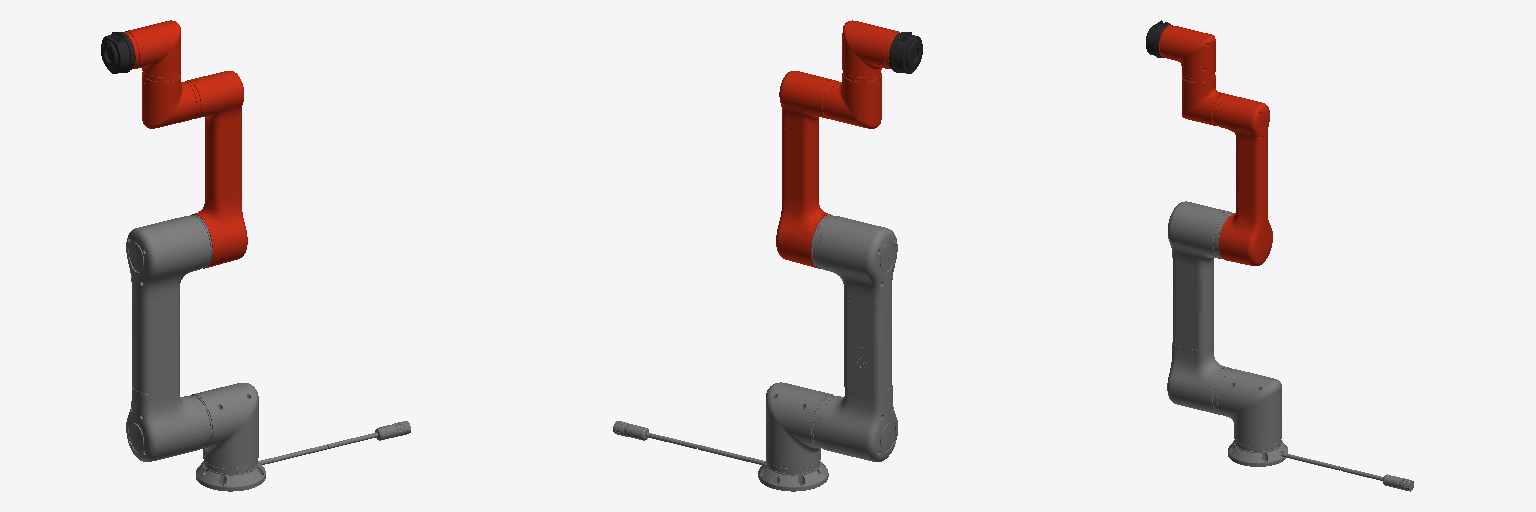
The robot description file, URDF, robot "hcr_robot":
<?xml version="1.0" ?>
<!-- =================================================================================== -->
<!-- |    This document was autogenerated by xacro from hcr_robot.xacro                | -->
<!-- |    EDITING THIS FILE BY HAND IS NOT RECOMMENDED                                 | -->
<!-- =================================================================================== -->
<robot name="hcr_robot">
  <material name="silver">
    <color rgba="0.700 0.700 0.700 1.000"/>
  </material>
  <material name="orange">
    <color rgba="0.8 0.2 0.1 1.0"/>
  </material>
  <material name="black">
    <color rgba="0.5 0.5 0.5 1.0"/>
  </material>
  <material name="grey">
    <color rgba="0.2 0.2 0.2 1.0"/>
  </material>
  <!--gazebo>
    <plugin filename="libgazebo_ros_control.so" name="control"/>
  </gazebo-->
  <link name="world" />
    <!-- BASE LINK -->
    <!--link name="base_link">
        <visual>
            <origin rpy="0 0 0" xyz="0 0 0.01" />
            <material name="black">
                   <color rgba="0.0 0.0 0.0 1.0"/>
            </material>
             
        </visual>
        <collision>
            <origin rpy="0 0 0" xyz="0 0 0.01" />
            <geometry>
                <cylinder length="0.02" radius="0.5" />
            </geometry>
        </collision>
        
        <inertial>

            <mass value="0.1" />
            <inertia ixx="0.03" iyy="0.03" izz="0.03" ixy="0.0" ixz="0.0" iyz="0.0" />
        </inertial>

    </link-->
  <gazebo reference="base_link">
    <material>Gazebo/Black</material>
    <mu1>0.2</mu1>
    <mu2>0.2</mu2>
    <selfCollide>true</selfCollide>
    <gravity>true</gravity>
  </gazebo>
  <gazebo reference="link1_1">
    <material>Gazebo/Black</material>
    <mu1>0.2</mu1>
    <mu2>0.2</mu2>
    <selfCollide>true</selfCollide>
  </gazebo>
  <gazebo reference="link2_1">
    <material>Gazebo/Black</material>
    <mu1>0.2</mu1>
    <mu2>0.2</mu2>
    <selfCollide>true</selfCollide>
  </gazebo>
  <gazebo reference="link3_1">
    <material>Gazebo/Orange</material>
    <mu1>0.2</mu1>
    <mu2>0.2</mu2>
    <selfCollide>true</selfCollide>
  </gazebo>
  <gazebo reference="link4_1">
    <material>Gazebo/Orange</material>
    <mu1>0.2</mu1>
    <mu2>0.2</mu2>
    <selfCollide>true</selfCollide>
  </gazebo>
  <gazebo reference="link5_1">
    <material>Gazebo/Orange</material>
    <mu1>0.2</mu1>
    <mu2>0.2</mu2>
    <selfCollide>true</selfCollide>
  </gazebo>
  <gazebo reference="link6_1">
    <material>Gazebo/Grey</material>
    <mu1>0.2</mu1>
    <mu2>0.2</mu2>
    <selfCollide>true</selfCollide>
  </gazebo>
  <!-- LINK 1 -->
  <link name="base_link">
    <inertial>
      <origin rpy="0 0 0" xyz="0.044693591972953806 -9.689819846991377e-05 0.013982771179495564"/>
      <mass value="4.071462983655495"/>
      <inertia ixx="0.004614" ixy="-2e-05" ixz="-0.000189" iyy="0.063084" iyz="0.0" izz="0.067151"/>
    </inertial>
    <visual>
      <origin rpy="0 0 0" xyz="0 0 0"/>
      <geometry>
        <mesh filename="package://hcr_robot_description/meshes/base_link.stl" scale="0.001 0.001 0.001"/>
      </geometry>
      <material name="black"/>
    </visual>
    <collision>
      <origin rpy="0 0 0" xyz="0 0 0"/>
      <geometry>
        <mesh filename="package://hcr_robot_description/meshes/base_link.stl" scale="0.001 0.001 0.001"/>
      </geometry>
    </collision>
  </link>
  <!-- joint -->
  <joint name="fixed" type="fixed">
        <parent link="world" />
        <child link="base_link" />
  </joint>
  <link name="link1_1">
    <inertial>
      <origin rpy="0 0 0" xyz="-0.009232924655966162 5.611908895686318e-08 0.08981078121700108"/>
      <mass value="17.125748524580114"/>
      <inertia ixx="0.054601" ixy="0.0" ixz="0.004569" iyy="0.061186" iyz="-0.0" izz="0.036738"/>
    </inertial>
    <visual>
      <origin rpy="0 0 0" xyz="-0.0 0.0 -0.03"/>
      <geometry>
        <mesh filename="package://hcr_robot_description/meshes/link1_1.stl" scale="0.001 0.001 0.001"/>
      </geometry>
      <material name="black"/>
    </visual>
    <collision>
      <origin rpy="0 0 0" xyz="-0.0 0.0 -0.03"/>
      <geometry>
        <mesh filename="package://hcr_robot_description/meshes/link1_1.stl" scale="0.001 0.001 0.001"/>
      </geometry>
    </collision>
  </link>
  <link name="link2_1">
    <inertial>
      <origin rpy="0 0 0" xyz="-0.08134423156498356 0.0004999972193747809 0.21200027982915884"/>
      <mass value="32.073698785630135"/>
      <inertia ixx="1.334728" ixy="-5e-06" ixz="-0.002068" iyy="1.368804" iyz="-0.003172" izz="0.0845"/>
    </inertial>
    <visual>
      <origin rpy="0 0 0" xyz="0.0785 0.0 -0.148778"/>
      <geometry>
        <mesh filename="package://hcr_robot_description/meshes/link2_1.stl" scale="0.001 0.001 0.001"/>
      </geometry>
      <material name="black"/>
    </visual>
    <collision>
      <origin rpy="0 0 0" xyz="0.0785 0.0 -0.148778"/>
      <geometry>
        <mesh filename="package://hcr_robot_description/meshes/link2_1.stl" scale="0.001 0.001 0.001"/>
      </geometry>
    </collision>
  </link>
  <link name="link3_1">
    <inertial>
      <origin rpy="0 0 0" xyz="0.03733088153046067 -8.45436915776097e-06 0.32700293666580915"/>
      <mass value="6.636542484506931"/>
      <inertia ixx="0.008668" ixy="-0.0" ixz="0.001661" iyy="0.014027" iyz="0.0" izz="0.010649"/>
    </inertial>
    <visual>
      <origin rpy="0 0 0" xyz="0.077848 -0.001 -0.572778"/>
      <geometry>
        <mesh filename="package://hcr_robot_description/meshes/link3_1.stl" scale="0.001 0.001 0.001"/>
      </geometry>
      <material name="orange"/>
    </visual>
    <collision>
      <origin rpy="0 0 0" xyz="0.077848 -0.001 -0.572778"/>
      <geometry>
        <mesh filename="package://hcr_robot_description/meshes/link3_1.stl" scale="0.001 0.001 0.001"/>
      </geometry>
    </collision>
  </link>
  <link name="link4_1">
    <inertial>
      <origin rpy="0 0 0" xyz="-0.053462210233883714 -3.2261679182082545e-07 0.022076827880824546"/>
      <mass value="6.518501202798632"/>
      <inertia ixx="0.011005" ixy="-0.0" ixz="0.001222" iyy="0.012783" iyz="0.0" izz="0.007491"/>
    </inertial>
    <visual>
      <origin rpy="0 0 0" xyz="0.107864 -0.000992 -0.911345"/>
      <geometry>
        <mesh filename="package://hcr_robot_description/meshes/link4_1.stl" scale="0.001 0.001 0.001"/>
      </geometry>
      <material name="orange"/>
    </visual>
    <collision>
      <origin rpy="0 0 0" xyz="0.107864 -0.000992 -0.911345"/>
      <geometry>
        <mesh filename="package://hcr_robot_description/meshes/link4_1.stl" scale="0.001 0.001 0.001"/>
      </geometry>
    </collision>
  </link>
  <link name="link5_1">
    <inertial>
      <origin rpy="0 0 0" xyz="-0.022082116809040042 -5.860596366637823e-07 0.0534553107989999"/>
      <mass value="6.518501237017786"/>
      <inertia ixx="0.007541" ixy="0.0" ixz="0.001224" iyy="0.012794" iyz="-0.0" izz="0.010966"/>
    </inertial>
    <visual>
      <origin rpy="0 0 0" xyz="0.169864 -0.000992 -1.000941"/>
      <geometry>
        <mesh filename="package://hcr_robot_description/meshes/link5_1.stl" scale="0.001 0.001 0.001"/>
      </geometry>
      <material name="orange"/>
    </visual>
    <collision>
      <origin rpy="0 0 0" xyz="0.169864 -0.000992 -1.000941"/>
      <geometry>
        <mesh filename="package://hcr_robot_description/meshes/link5_1.stl" scale="0.001 0.001 0.001"/>
      </geometry>
    </collision>
  </link>
  <link name="link6_1">
    <inertial>
      <origin rpy="0 0 0" xyz="-0.019264152679962065 -4.5474100852818493e-07 -0.0005907014657897669"/>
      <mass value="1.6914762668461325"/>
      <inertia ixx="0.001473" ixy="0.0" ixz="-8e-06" iyy="0.00094" iyz="0.0" izz="0.000976"/>
    </inertial>
    <visual>
      <origin rpy="0 0 0" xyz="0.25946 -0.000992 -1.062941"/>
      <geometry>
        <mesh filename="package://hcr_robot_description/meshes/link6_1.stl" scale="0.001 0.001 0.001"/>
      </geometry>
      <material name="grey"/>
    </visual>
    <collision>
      <origin rpy="0 0 0" xyz="0.25946 -0.000992 -1.062941"/>
      <geometry>
        <mesh filename="package://hcr_robot_description/meshes/link6_1.stl" scale="0.001 0.001 0.001"/>
      </geometry>
    </collision>
  </link>
  <joint name="joint_1" type="revolute">
    <origin rpy="0 0 0" xyz="0.0 0.0 0.03"/>
    <parent link="base_link"/>
    <child link="link1_1"/>
    <axis xyz="0.0 -0.0 1.0"/>
    <limit effort="100" lower="0.0" upper="6.283185" velocity="100"/>
  </joint>
  <joint name="joint_2" type="revolute">
    <origin rpy="0 0 0" xyz="-0.0785 0.0 0.118778"/>
    <parent link="link1_1"/>
    <child link="link2_1"/>
    <axis xyz="-1.0 0.0 0.0"/>
    <limit effort="100" lower="-1.570796" upper="1.570796" velocity="100"/>
  </joint>
  <joint name="joint_3" type="revolute">
    <origin rpy="0 0 0" xyz="0.000652 0.001 0.424"/>
    <parent link="link2_1"/>
    <child link="link3_1"/>
    <axis xyz="1.0 0.0 0.0"/>
    <limit effort="100" lower="-2.268928" upper="2.268928" velocity="100"/>
  </joint>
  <joint name="joint_4" type="revolute">
    <origin rpy="0 0 0" xyz="-0.030016 -8e-06 0.338567"/>
    <parent link="link3_1"/>
    <child link="link4_1"/>
    <axis xyz="-1.0 0.0 -0.0"/>
    <limit effort="100" lower="-2.96706" upper="2.96706" velocity="100"/>
  </joint>
  <joint name="joint_5" type="revolute">
    <origin rpy="0 0 0" xyz="-0.062 0.0 0.089596"/>
    <parent link="link4_1"/>
    <child link="link5_1"/>
    <axis xyz="-0.0 -0.0 1.0"/>
    <limit effort="100" lower="-2.094395" upper="2.094395" velocity="100"/>
  </joint>
  <joint name="joint_6" type="revolute">
    <origin rpy="0 0 0" xyz="-0.089596 0.0 0.062"/>
    <parent link="link5_1"/>
    <child link="link6_1"/>
    <axis xyz="-1.0 -0.0 0.0"/>
    <limit effort="100" lower="0.0" upper="6.283185" velocity="100"/>
  </joint>
  <transmission name="trans_joint_1">
        <type>transmission_interface/SimpleTransmission</type>
        <joint name="joint_1">
            <hardwareInterface>hardware_interface/PositionJointInterface</hardwareInterface>
        </joint>
        <actuator name="joint_1_motor">
            <hardwareInterface>hardware_interface/PositionJointInterface</hardwareInterface>
            <mechanicalReduction>1</mechanicalReduction>
        </actuator>
    </transmission>
    <transmission name="trans_joint_2">
        <type>transmission_interface/SimpleTransmission</type>
        <joint name="joint_2">
            <hardwareInterface>hardware_interface/PositionJointInterface</hardwareInterface>
        </joint>
        <actuator name="joint_2_motor">
            <hardwareInterface>hardware_interface/PositionJointInterface</hardwareInterface>
            <mechanicalReduction>1</mechanicalReduction>
        </actuator>
    </transmission>
    <transmission name="trans_joint_3">
        <type>transmission_interface/SimpleTransmission</type>
        <joint name="joint_3">
            <hardwareInterface>hardware_interface/PositionJointInterface</hardwareInterface>
        </joint>
        <actuator name="joint_3_motor">
            <hardwareInterface>hardware_interface/PositionJointInterface</hardwareInterface>
            <mechanicalReduction>1</mechanicalReduction>
        </actuator>
    </transmission>
    <transmission name="trans_joint_4">
        <type>transmission_interface/SimpleTransmission</type>
        <joint name="joint_4">
            <hardwareInterface>hardware_interface/PositionJointInterface</hardwareInterface>
        </joint>
        <actuator name="joint_4_motor">
            <hardwareInterface>hardware_interface/PositionJointInterface</hardwareInterface>
            <mechanicalReduction>1</mechanicalReduction>
        </actuator>
    </transmission>
    <transmission name="trans_joint_5">
        <type>transmission_interface/SimpleTransmission</type>
        <joint name="joint_5">
            <hardwareInterface>hardware_interface/PositionJointInterface</hardwareInterface>
        </joint>
        <actuator name="joint_5_motor">
            <hardwareInterface>hardware_interface/PositionJointInterface</hardwareInterface>
            <mechanicalReduction>1</mechanicalReduction>
        </actuator>
    </transmission>
    <transmission name="trans_joint_6">
        <type>transmission_interface/SimpleTransmission</type>
        <joint name="joint_6">
            <hardwareInterface>hardware_interface/PositionJointInterface</hardwareInterface>
        </joint>
        <actuator name="joint_6_motor">
            <hardwareInterface>hardware_interface/PositionJointInterface</hardwareInterface>
            <mechanicalReduction>1</mechanicalReduction>
        </actuator>
    </transmission>
    <gazebo>
        <plugin name="gazebo_ros_control" filename="libgazebo_ros_control.so">
            <robotNamespace>/</robotNamespace>
        </plugin>
    </gazebo>
</robot>

--- What the picture shows (computed from the rendered views, not written in the file) ---
3 views of the same robot in one strip: view 1: azimuth 30°, elevation 25°; view 2: azimuth 150°, elevation 25°; view 3: azimuth 330°, elevation 25° (orthographic).
Robot: hcr_robot — 8 links, 7 joints (6 revolute, 1 fixed); root link world; default pose: every joint at zero.
Links seen in each view (by area): view 1: link2_1, link3_1, link1_1, link4_1, link5_1, base_link, link6_1; view 2: link2_1, link3_1, link1_1, link4_1, link5_1, base_link, link6_1; view 3: link2_1, link3_1, link1_1, link5_1, base_link, link4_1.
Boxes of the visible links, x1=… form: link2_1: x1=126, y1=215, x2=212, y2=461; link3_1: x1=185, y1=71, x2=247, y2=268; link1_1: x1=192, y1=383, x2=258, y2=475; link4_1: x1=142, y1=71, x2=196, y2=128; link5_1: x1=123, y1=20, x2=180, y2=76; base_link: x1=196, y1=421, x2=410, y2=491; link6_1: x1=101, y1=32, x2=134, y2=73; link2_1: x1=811, y1=215, x2=897, y2=461; link3_1: x1=776, y1=71, x2=838, y2=268; link1_1: x1=766, y1=382, x2=832, y2=475; link4_1: x1=827, y1=72, x2=881, y2=128; link5_1: x1=842, y1=20, x2=899, y2=76; base_link: x1=613, y1=421, x2=828, y2=491; link6_1: x1=889, y1=32, x2=922, y2=73; link2_1: x1=1167, y1=201, x2=1233, y2=414; link3_1: x1=1212, y1=94, x2=1272, y2=265; link1_1: x1=1218, y1=369, x2=1281, y2=452; link5_1: x1=1159, y1=25, x2=1215, y2=78; base_link: x1=1228, y1=440, x2=1413, y2=491; link4_1: x1=1182, y1=74, x2=1224, y2=125.
Size in the robot's own frame: 0.7395 by 0.15 by 1.11 metres.
7 mesh visuals loaded from 7 distinct referenced files (7 binary STL).